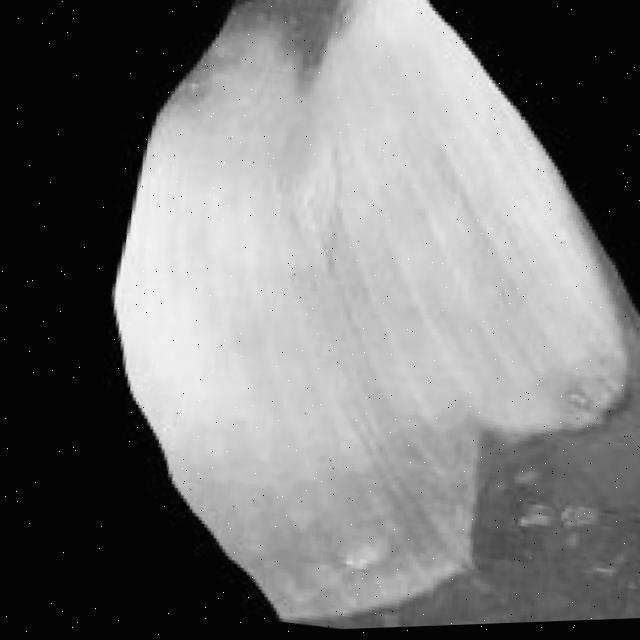mite: (455, 430, 640, 628), (493, 463, 609, 564), (504, 490, 600, 547), (547, 499, 596, 537), (508, 500, 553, 538), (499, 460, 541, 494), (556, 388, 591, 418)
